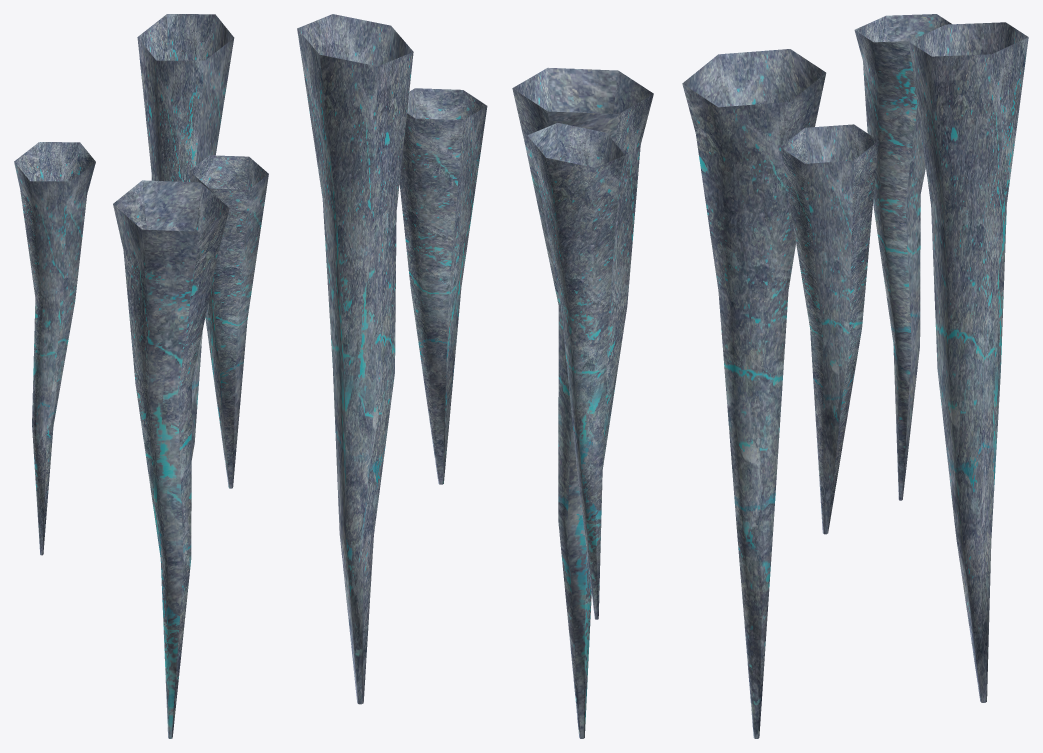
Rendered from icicle_up_01.fbx.
The picture shows the model from 3 angles, left to right: view 1: azimuth 30°, elevation 25°; view 2: azimuth 150°, elevation 25°; view 3: azimuth 270°, elevation 25°; orthographic projection. The views are drawn at different scales.
Visible parts, largest first — view 1: icicle_up_01; view 2: icicle_up_01; view 3: icicle_up_01.
Part boxes in pixels (box(x1,y1,x2,y2)): icicle_up_01: box(14, 14, 268, 738); icicle_up_01: box(297, 14, 653, 738); icicle_up_01: box(682, 14, 1028, 738).
Bounding box in the file's own units: 7.89 × 20.5 × 8.38.
